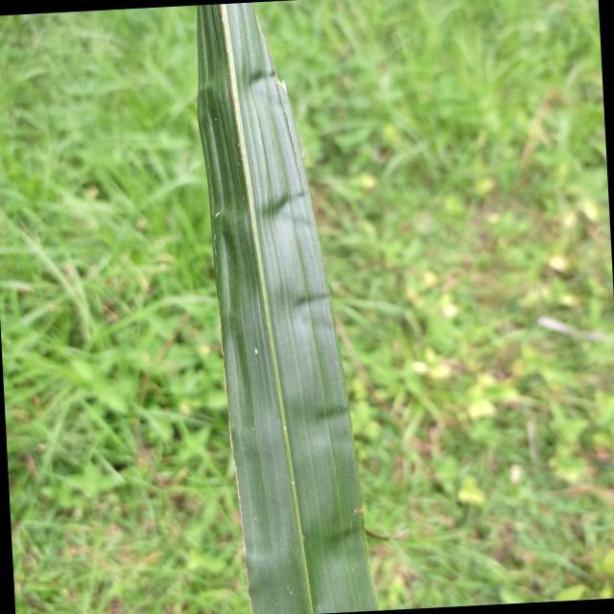Boron: (190, 0, 374, 614)
